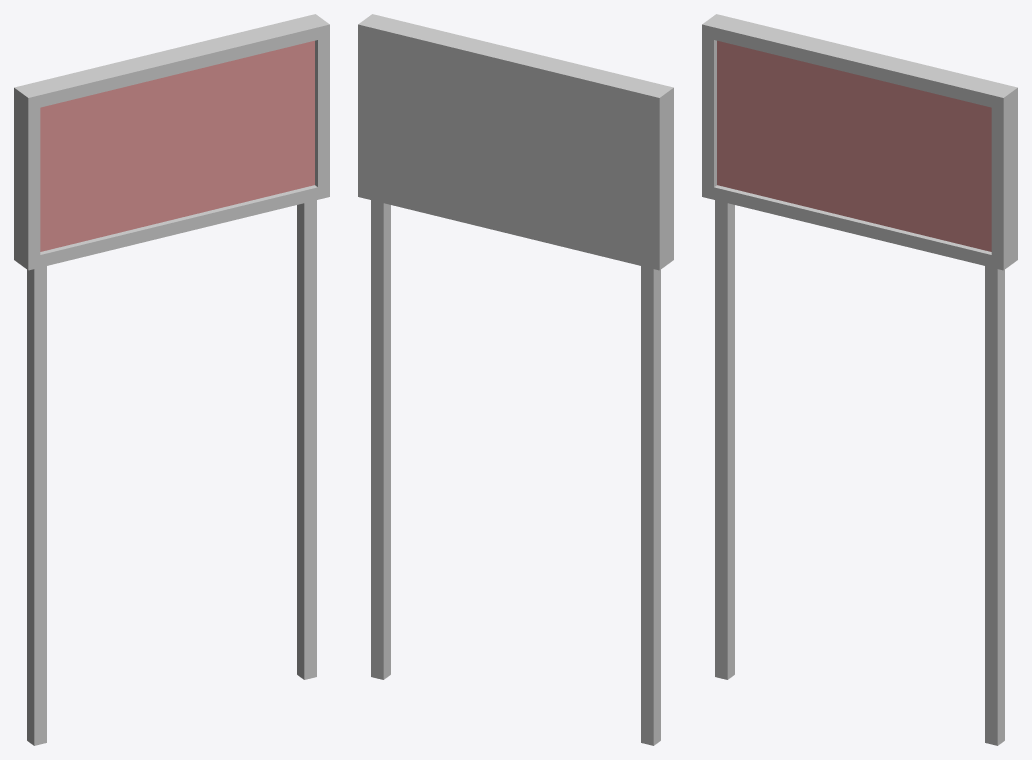
The model's file is racingArrowBoard.fbx.
3 renders of one model, left to right at view 1: azimuth 30°, elevation 25°; view 2: azimuth 150°, elevation 25°; view 3: azimuth 330°, elevation 25°, orthographic.
Visible parts, largest first — view 1: Arrow_Board; view 2: Arrow_Board; view 3: Arrow_Board.
Part boxes in pixels (bbox=[...]): Arrow_Board: bbox=[14, 14, 329, 745]; Arrow_Board: bbox=[358, 14, 673, 745]; Arrow_Board: bbox=[702, 14, 1017, 745].
Bounding box in the file's own units: 378 × 782 × 31.04.
